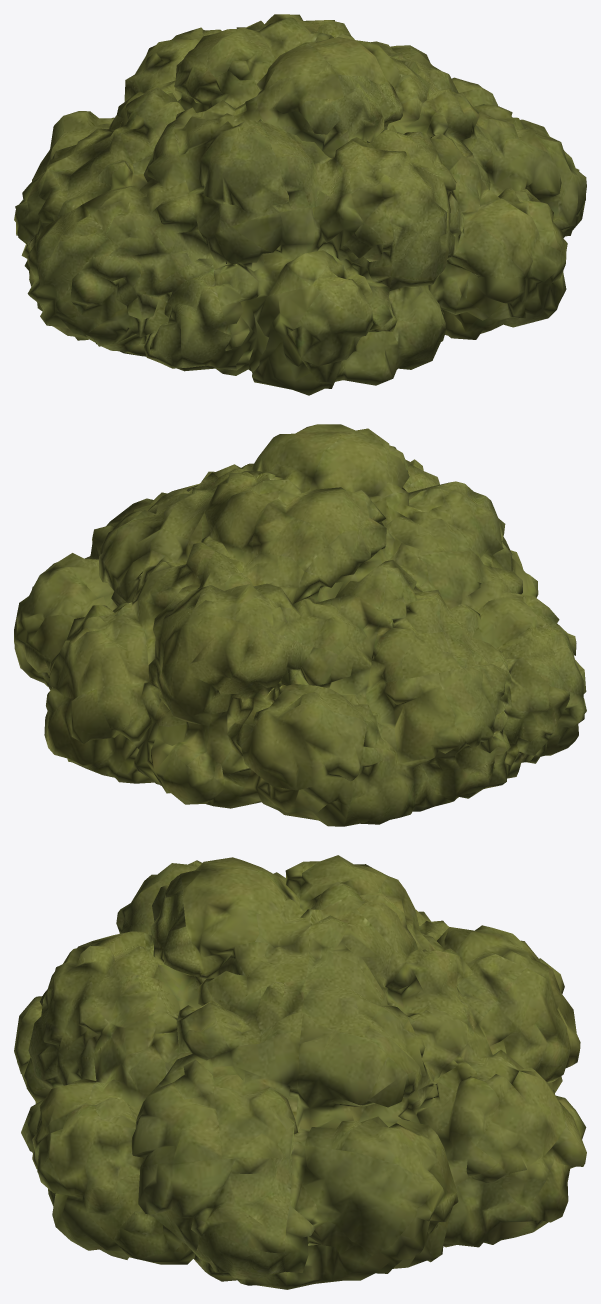
Rendered from matorral_alto.glb.
3 views of the same model, one above another, from view 1: azimuth 30°, elevation 25°; view 2: azimuth 150°, elevation 25°; view 3: azimuth 270°, elevation 25° (orthographic). The views are drawn at different scales.
Visible parts, largest first — view 1: alto; view 2: alto; view 3: alto.
Part boxes in pixels (x1,y1,x2,y2): alto: [14, 14, 586, 395]; alto: [14, 424, 586, 826]; alto: [14, 855, 586, 1289].
Bounding box in the file's own units: 1.78 × 0.8447 × 1.46.
1 material, 1 textured.
